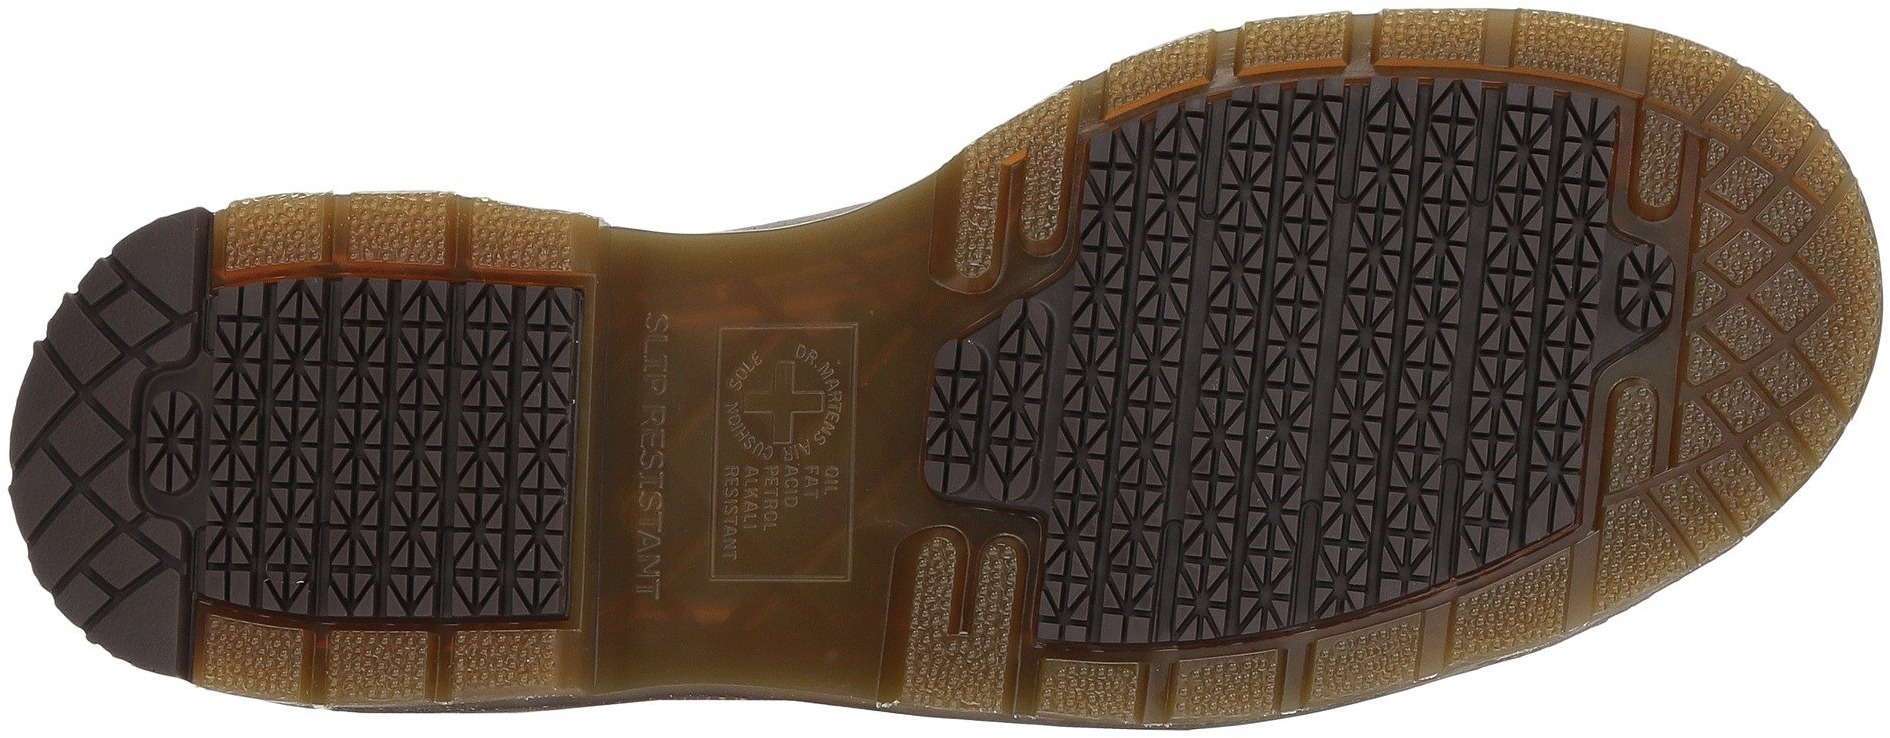quad: (708, 316, 877, 594), (1703, 176, 1818, 307), (25, 403, 134, 521), (83, 276, 178, 375)
star: (708, 316, 877, 594)
text: (708, 316, 877, 594)
triangle: (1279, 84, 1502, 320), (1141, 326, 1362, 561), (1369, 324, 1584, 532), (1087, 134, 1273, 322), (222, 293, 412, 476), (959, 330, 1135, 509), (419, 303, 573, 465), (394, 481, 538, 628), (228, 480, 364, 620), (1509, 131, 1622, 257)
